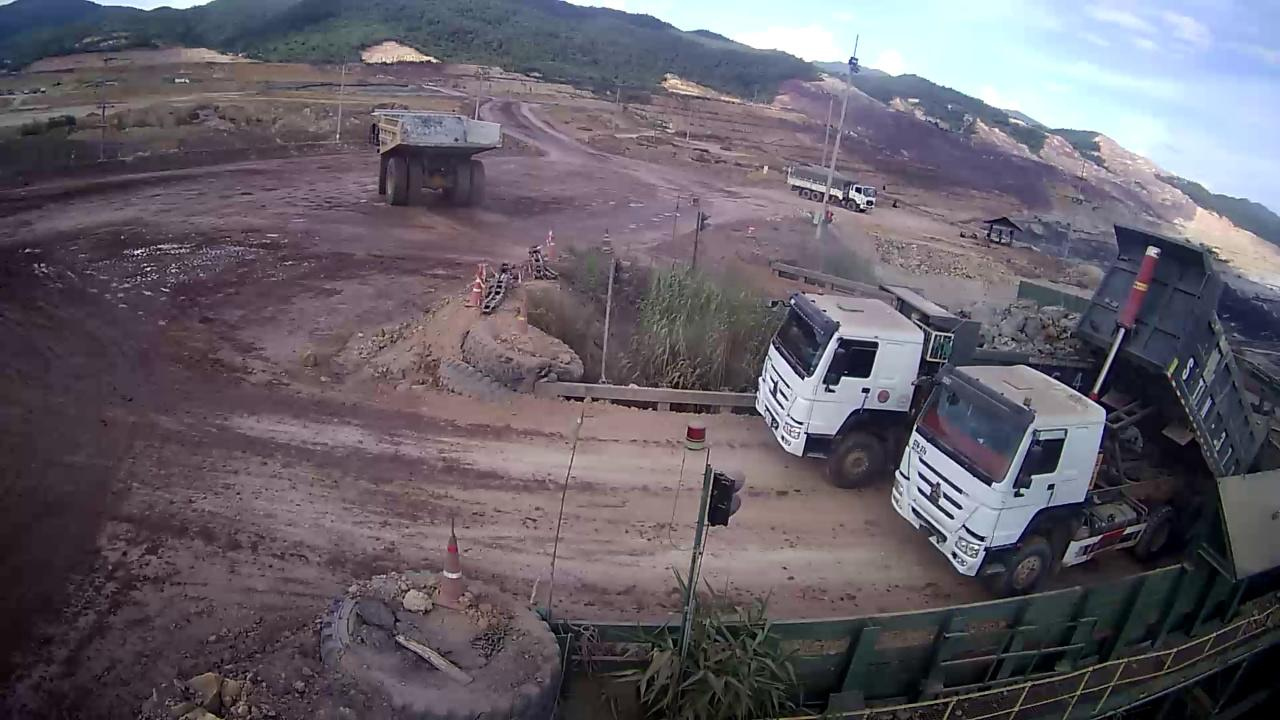empty_load: (402, 110, 490, 144)
mining_truck: (366, 105, 504, 206)
